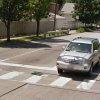Crosswalk: (5, 58, 86, 95)
